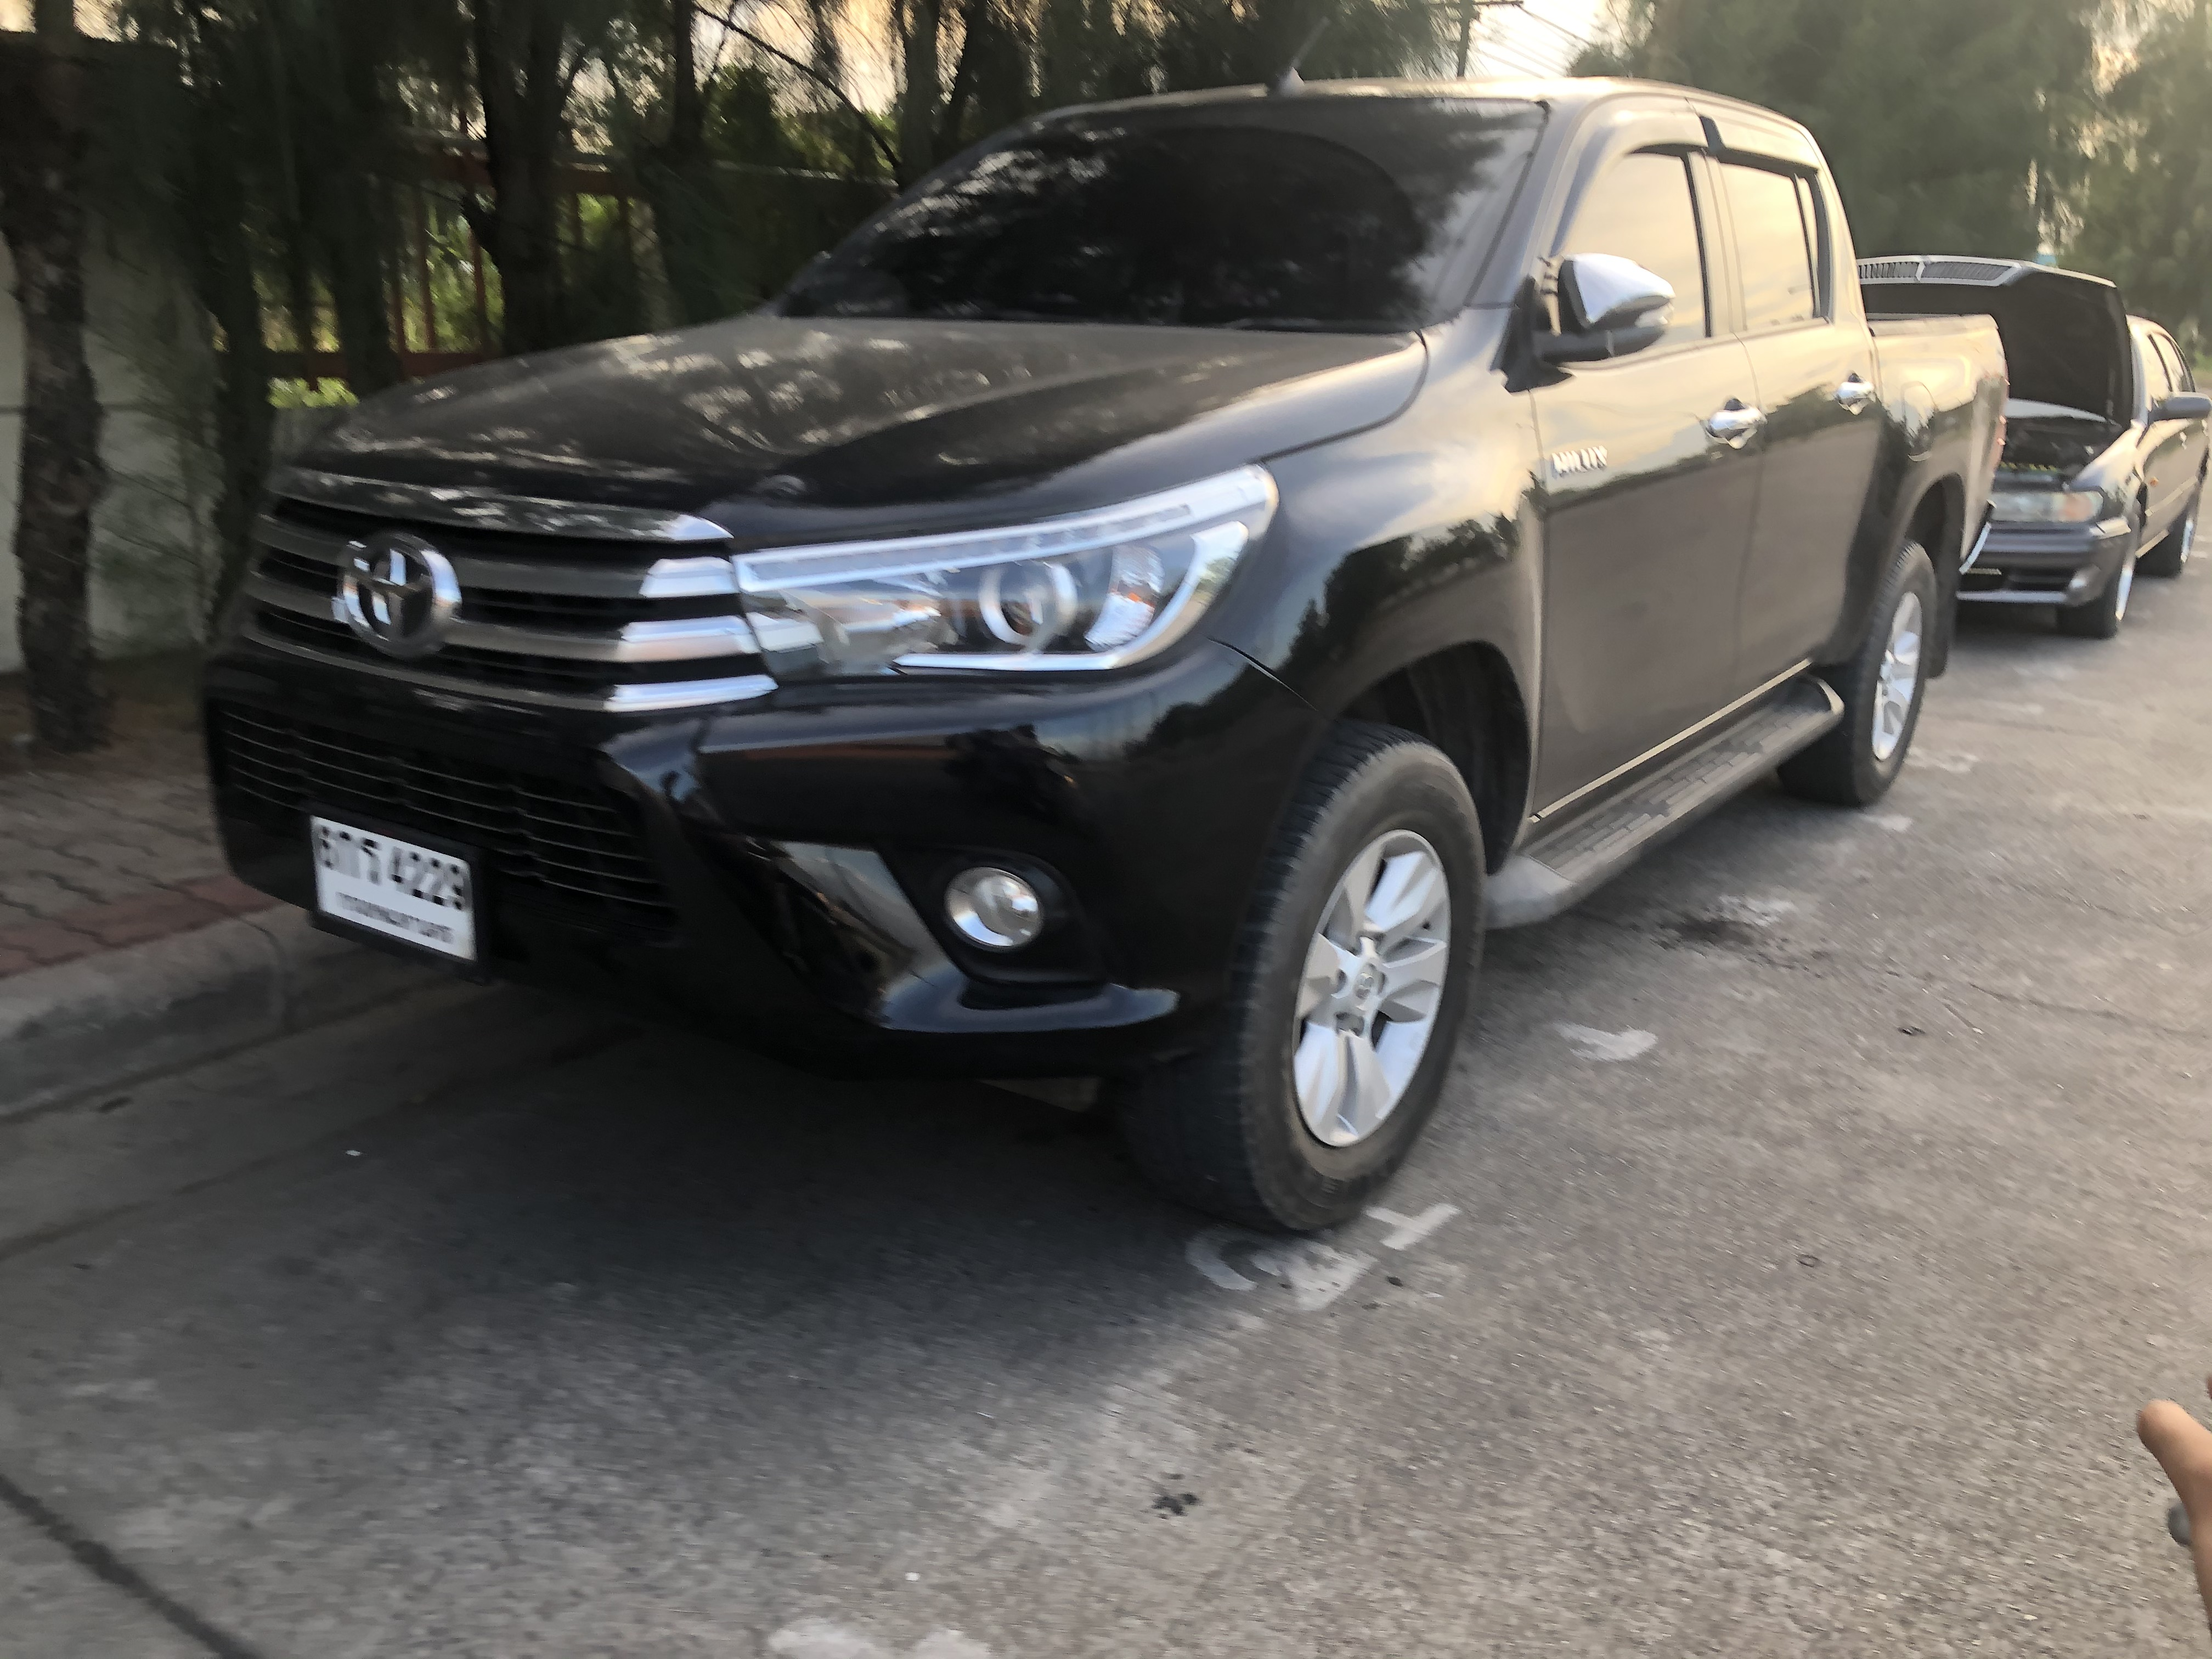in: (310, 816, 474, 955)
out: (294, 795, 500, 985)
